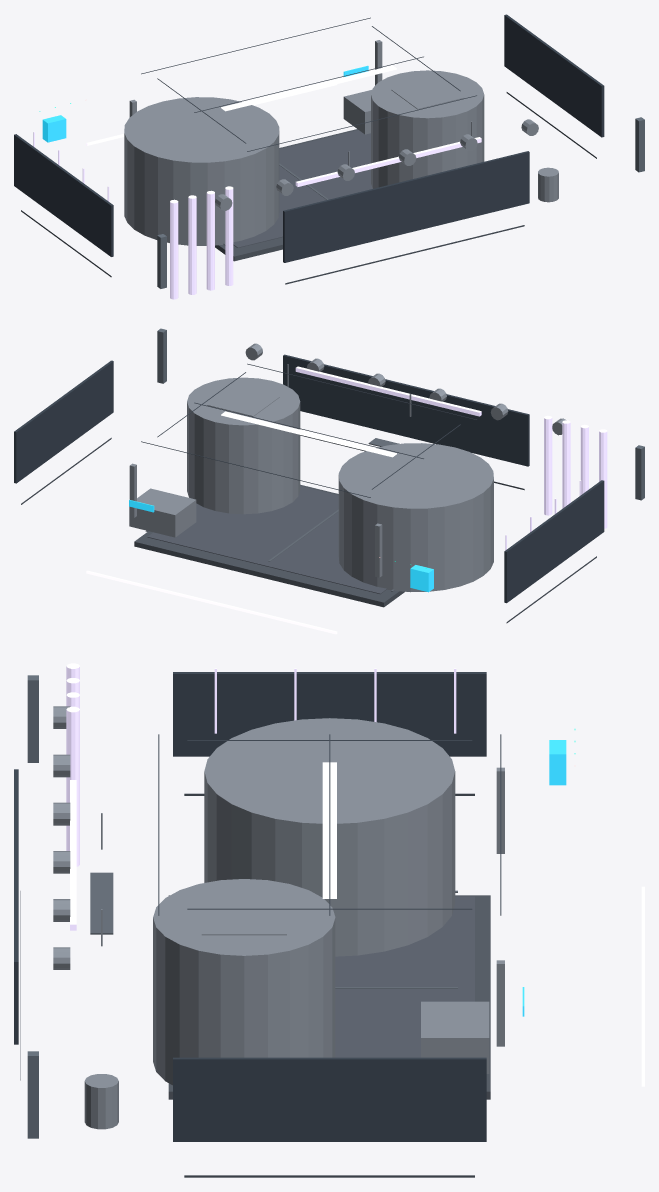
The model's file is floor-basement.glb.
The picture shows the model from 3 angles, top to bottom: view 1: azimuth 30°, elevation 25°; view 2: azimuth 150°, elevation 25°; view 3: azimuth 270°, elevation 25°; orthographic projection. The views are drawn at different scales.
Parts seen in each view (by area): view 1: Reservoir, WallBack_basement, Digester, IntFloor_basement, WallR_basement, WallL_basement, DigesterDome, LightStrip_basement, TreatSkid, ManifoldPipe, Riser0, Riser1 (+8 smaller); view 2: Reservoir, Digester, WallBack_basement, IntFloor_basement, WallL_basement, WallR_basement, Slab_basement, TreatSkid, DigesterDome, ManifoldPipe, LightStrip_basement, Reveal_basement (+7 smaller); view 3: Reservoir, Digester, WallR_basement, WallL_basement, IntFloor_basement, TreatSkid, DigesterDome, Slab_basement, LightStrip_basement, CircPump, Catwalk, Riser3 (+9 smaller).
Boxes of the visible parts, <box> form: Reservoir: <box>124,97,279,245</box>; WallBack_basement: <box>283,151,529,262</box>; Digester: <box>371,70,484,188</box>; IntFloor_basement: <box>233,130,372,247</box>; WallR_basement: <box>504,14,604,137</box>; WallL_basement: <box>14,134,113,256</box>; DigesterDome: <box>391,78,463,109</box>; LightStrip_basement: <box>221,65,396,111</box>; TreatSkid: <box>343,90,371,134</box>; ManifoldPipe: <box>295,137,481,186</box>; Riser0: <box>170,199,178,299</box>; Riser1: <box>188,195,196,294</box>; Reservoir: <box>338,443,493,592</box>; Digester: <box>187,377,300,514</box>; WallBack_basement: <box>283,354,529,466</box>; IntFloor_basement: <box>147,486,386,594</box>; WallL_basement: <box>504,480,604,603</box>; WallR_basement: <box>14,360,113,483</box>; Slab_basement: <box>134,484,404,607</box>; TreatSkid: <box>129,488,196,537</box>; DigesterDome: <box>207,385,279,416</box>; ManifoldPipe: <box>295,366,481,416</box>; LightStrip_basement: <box>221,411,396,457</box>; Reveal_basement: <box>86,570,337,634</box>; Reservoir: <box>204,718,455,956</box>; Digester: <box>153,879,335,1085</box>; WallR_basement: <box>173,1057,486,1141</box>; WallL_basement: <box>173,672,486,756</box>; IntFloor_basement: <box>335,896,474,1057</box>; TreatSkid: <box>421,1001,489,1073</box>; DigesterDome: <box>201,898,286,935</box>; Slab_basement: <box>168,895,490,1099</box>; LightStrip_basement: <box>322,762,336,898</box>; CircPump: <box>84,1074,118,1129</box>; Catwalk: <box>90,872,113,934</box>; Riser3: <box>66,706,79,866</box>.
Bounding box in the file's own units: 16.08 × 3.42 × 11.07.
